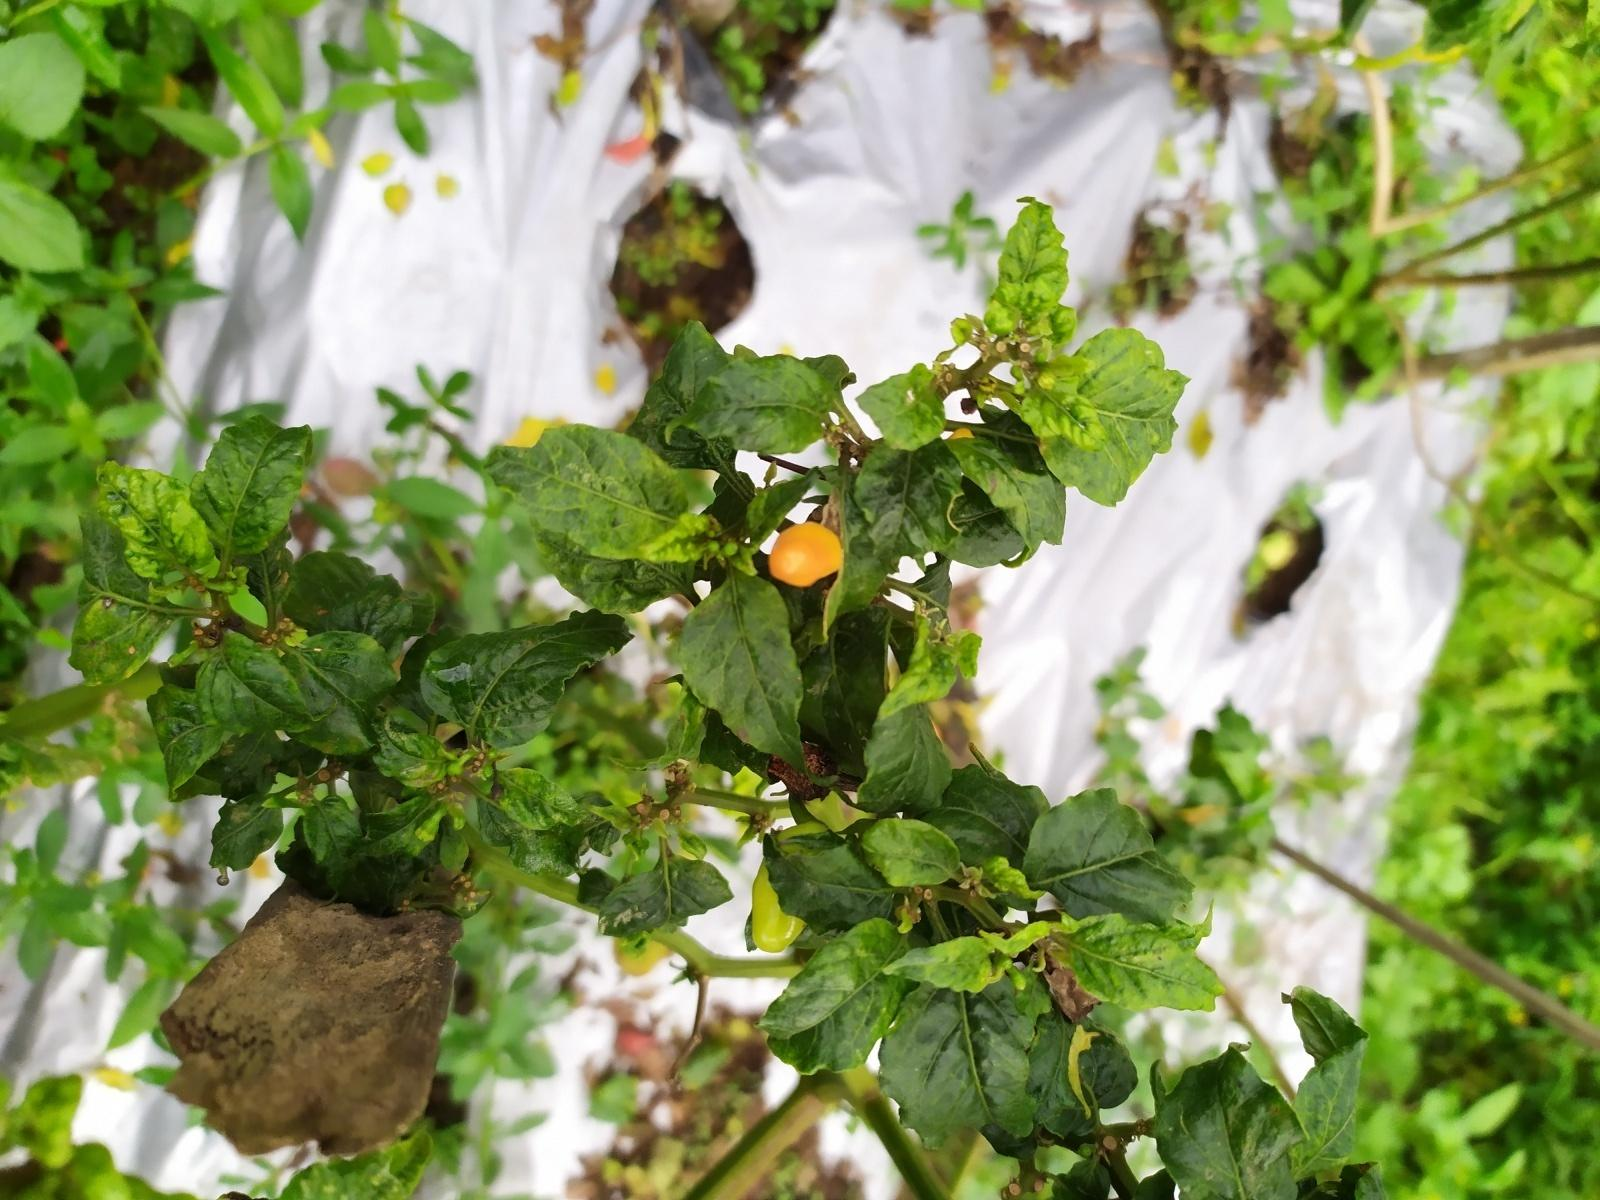cabai_normal: (769, 522, 843, 587)
